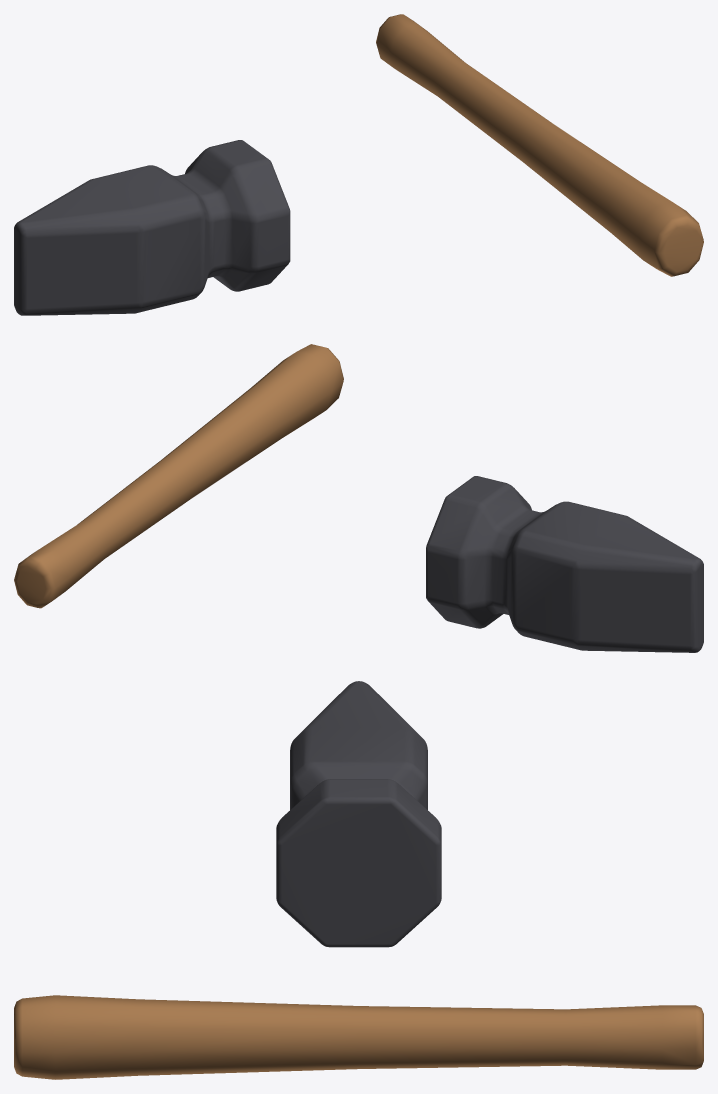
The model's file is AnvilHammer.fbx.
The picture shows the model from 3 angles, top to bottom: view 1: azimuth 30°, elevation 25°; view 2: azimuth 150°, elevation 25°; view 3: azimuth 270°, elevation 25°; orthographic projection. The views are drawn at different scales.
Visible parts, largest first — view 1: Head, Handle; view 2: Head, Handle; view 3: Handle, Head.
Part boxes in pixels (<box>): Head: <box>14,140,290,315</box>; Handle: <box>376,14,703,276</box>; Head: <box>426,476,703,652</box>; Handle: <box>14,344,343,608</box>; Handle: <box>14,995,703,1079</box>; Head: <box>276,681,441,947</box>.
Bounding box in the file's own units: 1.09 × 0.24 × 1.
